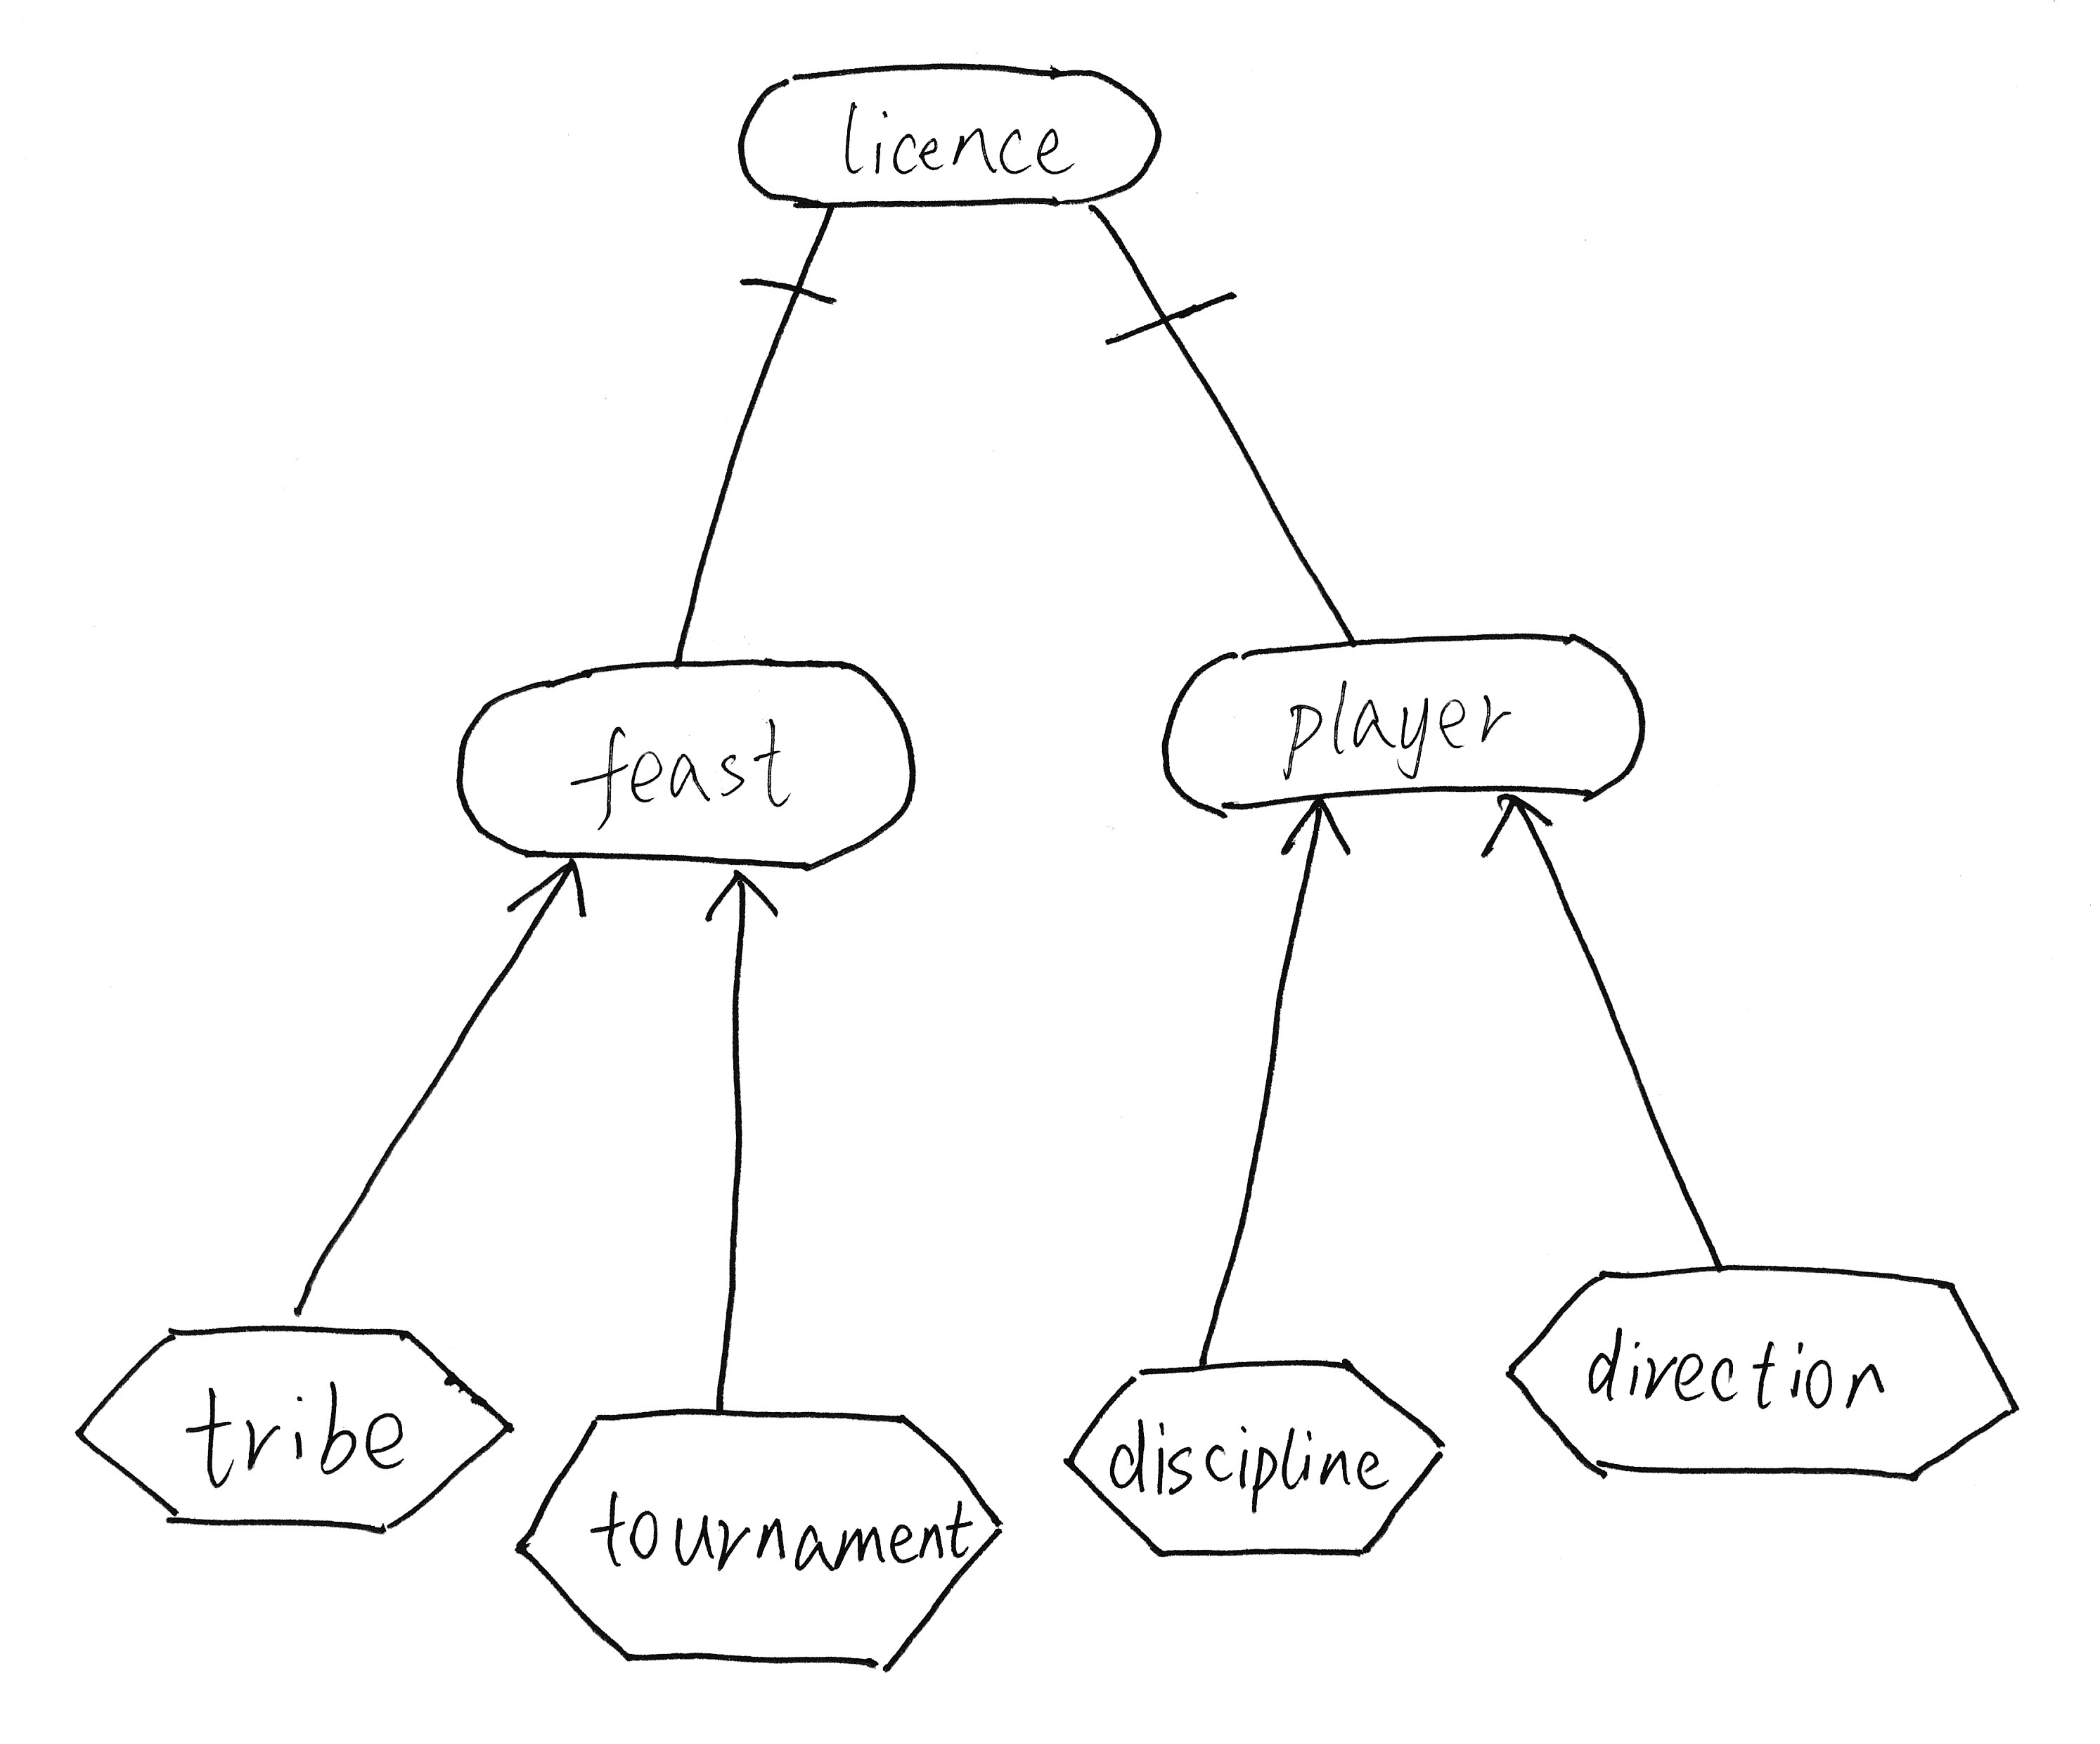and: (1067, 188, 1251, 361), (733, 208, 855, 319)
arrow: (1465, 783, 1568, 865), (501, 848, 595, 933), (1270, 785, 1364, 869), (698, 860, 792, 940)
goal: (436, 640, 935, 884), (1142, 617, 1664, 825), (722, 47, 1174, 221)
task: (504, 1390, 1024, 1681), (1490, 1245, 2035, 1496), (59, 1308, 527, 1547), (1043, 1343, 1465, 1575)
